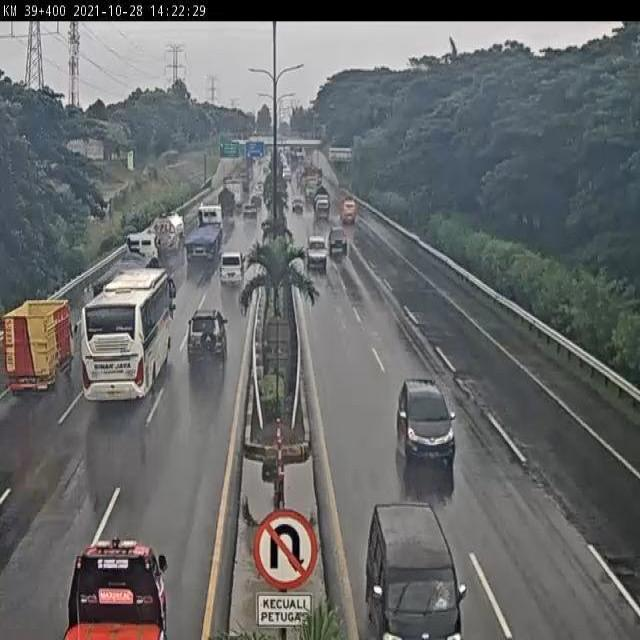big bus: (80, 267, 178, 404)
car: (367, 505, 462, 640), (397, 374, 459, 470), (185, 305, 228, 364), (217, 250, 246, 290), (304, 234, 329, 270), (328, 224, 348, 255)
small truck: (4, 299, 73, 397)
truck-l-: (145, 210, 186, 258)
truck-s-: (63, 537, 171, 640)
truck-xl-: (79, 233, 154, 303), (186, 204, 222, 257)
